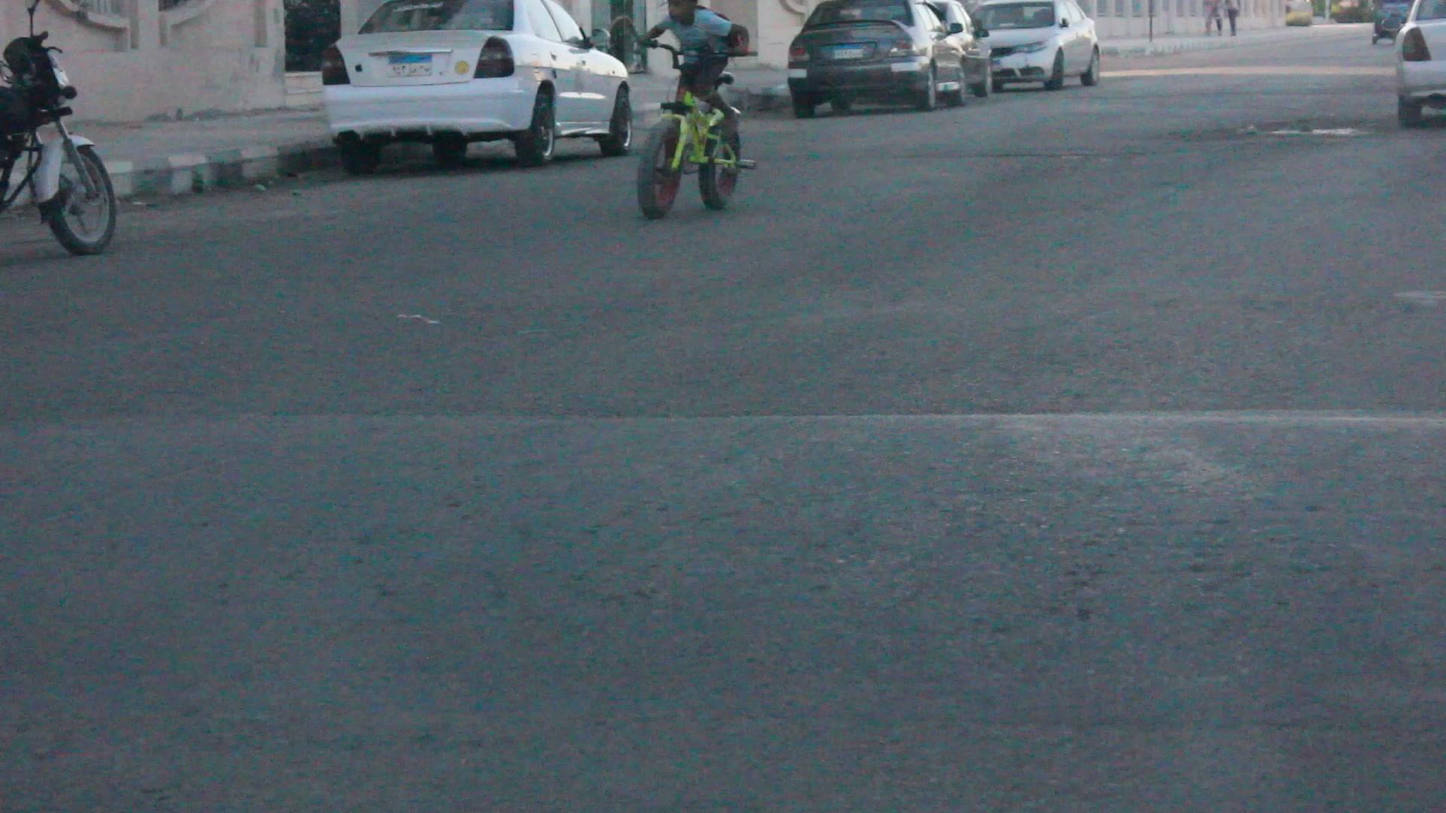Bump: (0, 414, 1445, 812)
Pothole: (1187, 116, 1385, 142)
